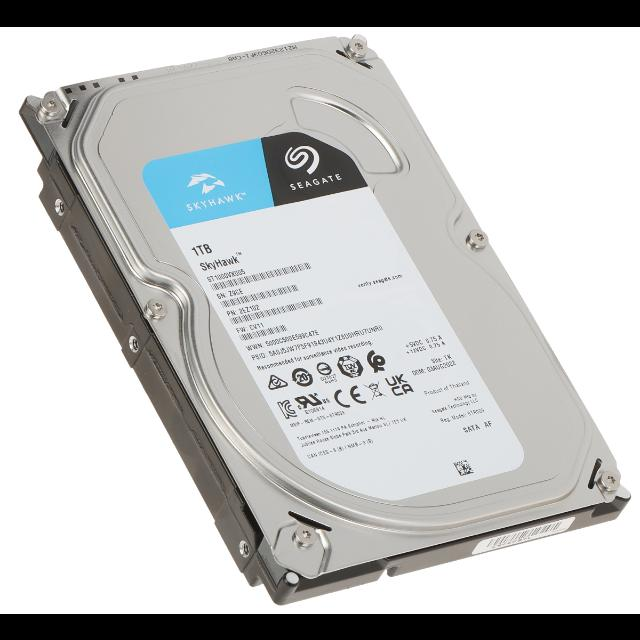HDD: (22, 35, 633, 608)
